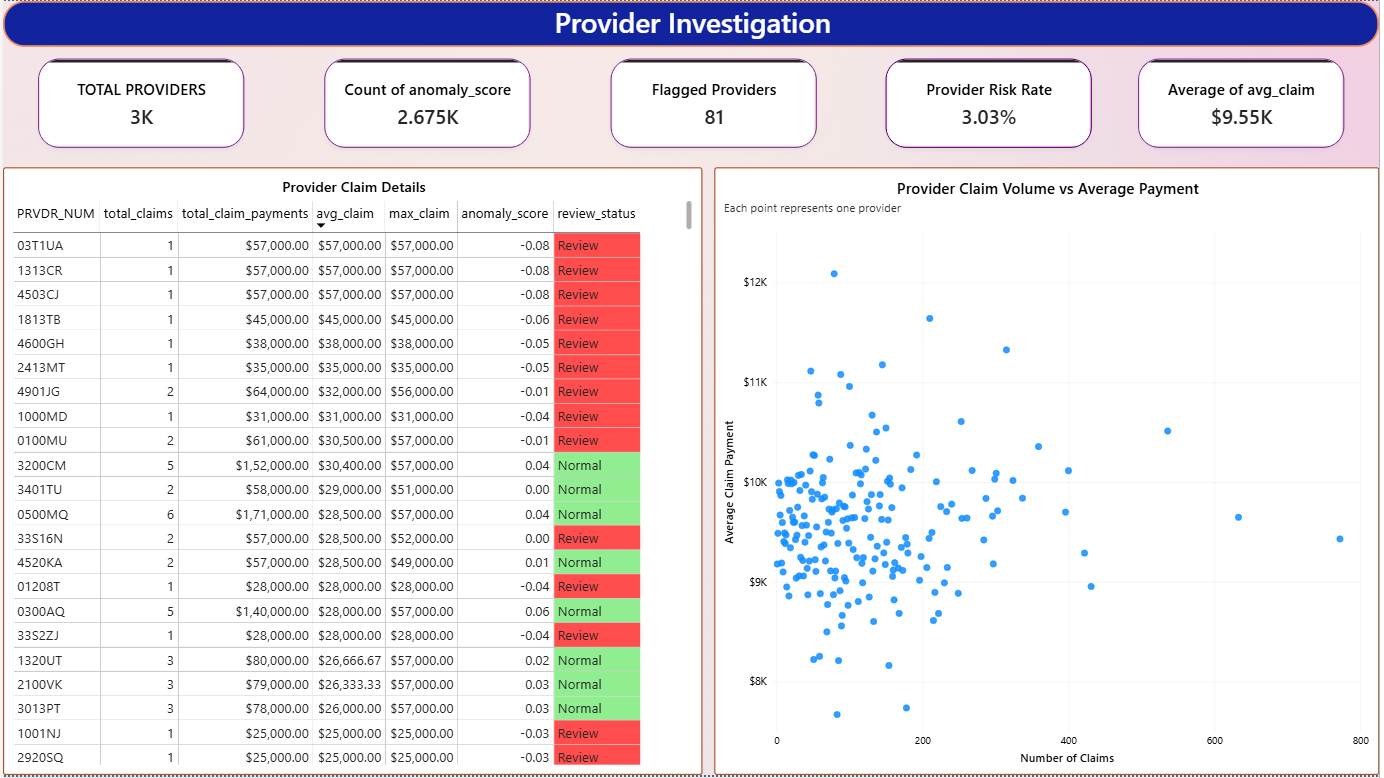

This screenshot's page, from the dashboard's own definition file:
{"tool":"powerbi","page":{"name":"Provider Investigation","canvas":[1920,1080],"ordinal":1},"visuals":[{"type":"tableEx","fields":{"Values":["ProviderRisk.PRVDR_NUM","ProviderRisk.total_claims","ProviderRisk.total_billed","ProviderRisk.avg_claim","ProviderRisk.max_claim","ProviderRisk.anomaly_score","ProviderRisk.review_status"]},"box":[0,80,896,992],"z":0},{"type":"scatterChart","fields":{"Size":["CountNonNull(ProviderRisk.PRVDR_NUM)"],"X":["Claims.Total Claims"],"Y":["ProviderRisk.avg_claim"]},"box":[928,80,992,496],"z":1000},{"type":"tableEx","fields":{"Values":["ProviderRisk.PRVDR_NUM","ProviderRisk.total_claims","ProviderRisk.avg_claim","ProviderRisk.anomaly_score"]},"box":[928,592,992,480],"z":2000},{"type":"textbox","title":"Provider Investigation","box":[0,0,1920,64],"z":2001}]}

Visuals, with their boxes in screenshot pixels (x1, y1, x2, y2), scaled from the page's 1920x1080 canvas onto the 1384x778 screenshot:
tableEx - ProviderRisk.PRVDR_NUM x ProviderRisk.total_claims: box(0, 58, 646, 772)
scatterChart - CountNonNull(ProviderRisk.PRVDR_NUM) x Claims.Total Claims: box(669, 58, 1383, 415)
tableEx - ProviderRisk.PRVDR_NUM x ProviderRisk.total_claims: box(669, 426, 1383, 772)
"Provider Investigation" textbox: box(0, 0, 1383, 46)
